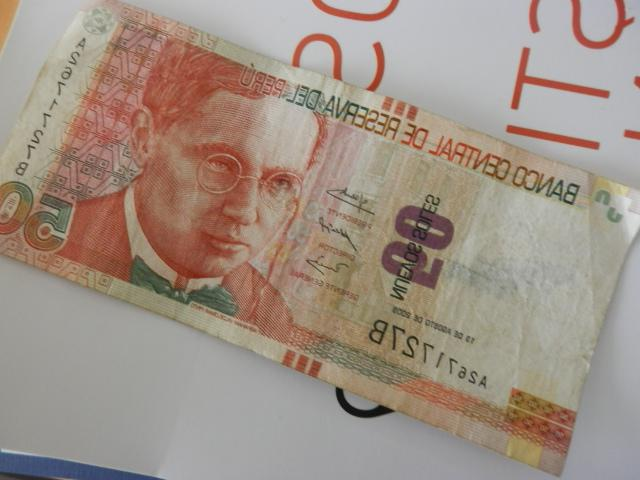B50: (1, 1, 640, 474)
